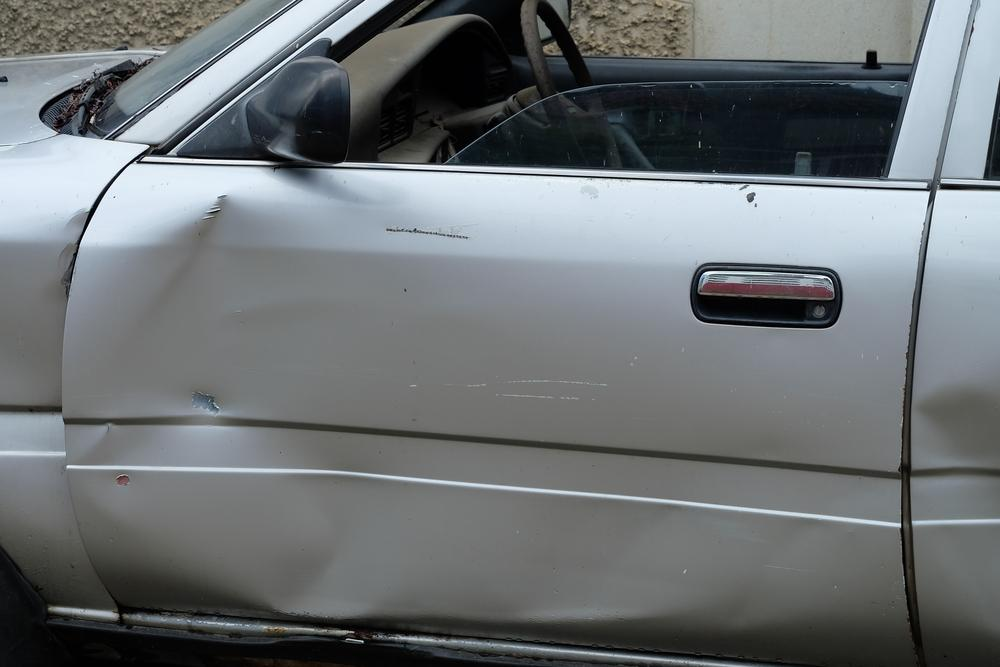dent: (62, 196, 810, 620), (914, 386, 1000, 635)
